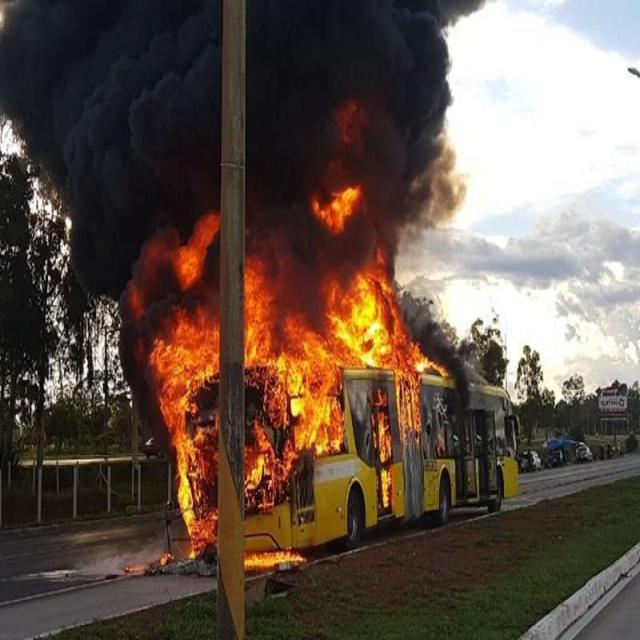Fire: (133, 169, 451, 571)
